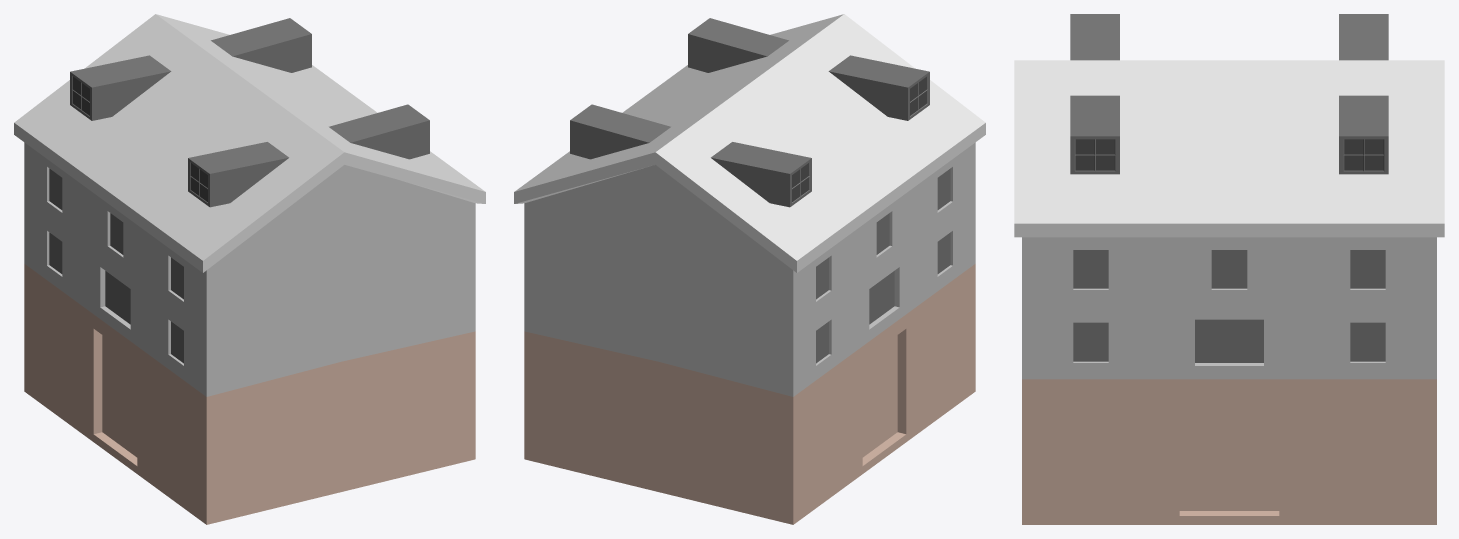
File: casa1.fbx
The picture shows the model from 3 angles, left to right: view 1: azimuth 30°, elevation 25°; view 2: azimuth 150°, elevation 25°; view 3: azimuth 270°, elevation 25°; orthographic projection. The views are drawn at different scales.
Visible parts, largest first — view 1: Cube.005; view 2: Cube.005; view 3: Cube.005.
Boxes of the visible parts, left/top/right/bottom form: Cube.005: left=14, top=14, right=485, bottom=524; Cube.005: left=514, top=14, right=985, bottom=524; Cube.005: left=1014, top=14, right=1444, bottom=524.
Bounding box in the file's own units: 163 × 189 × 189.
